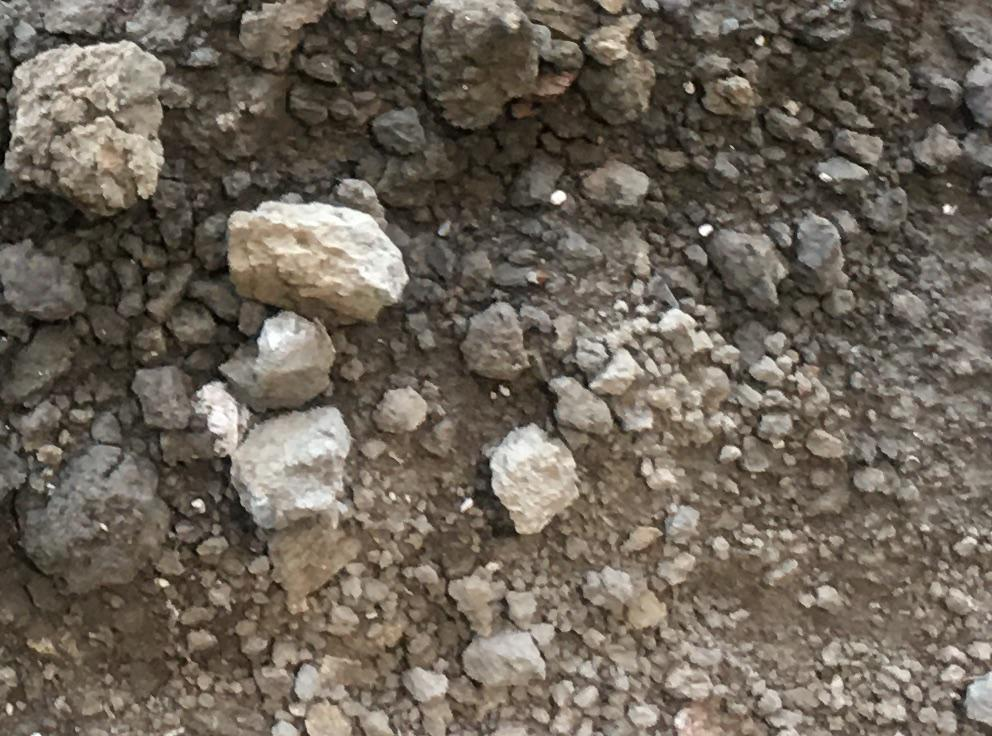block: (5, 48, 173, 218), (14, 436, 174, 593), (223, 203, 405, 326), (414, 2, 544, 138), (230, 412, 348, 523), (485, 420, 582, 540)
